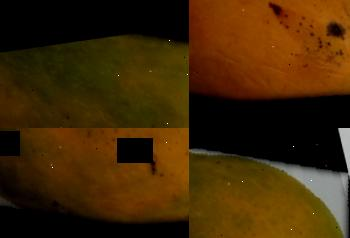PartiallyRipe: (0, 0, 189, 128), (0, 128, 189, 238), (189, 128, 350, 238)
Ripe: (189, 0, 350, 128)
